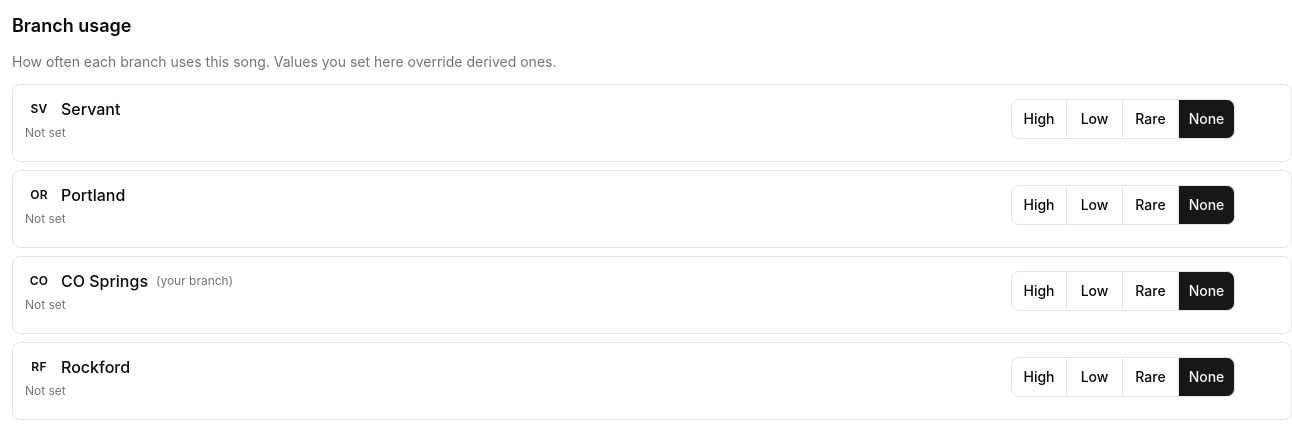
Scenario: UsageSection › sets Rare for a branch
Click the radio button labelled "Rare" in the row of "Portland". click: (1151, 205)
box: [1123,185,1179,225]
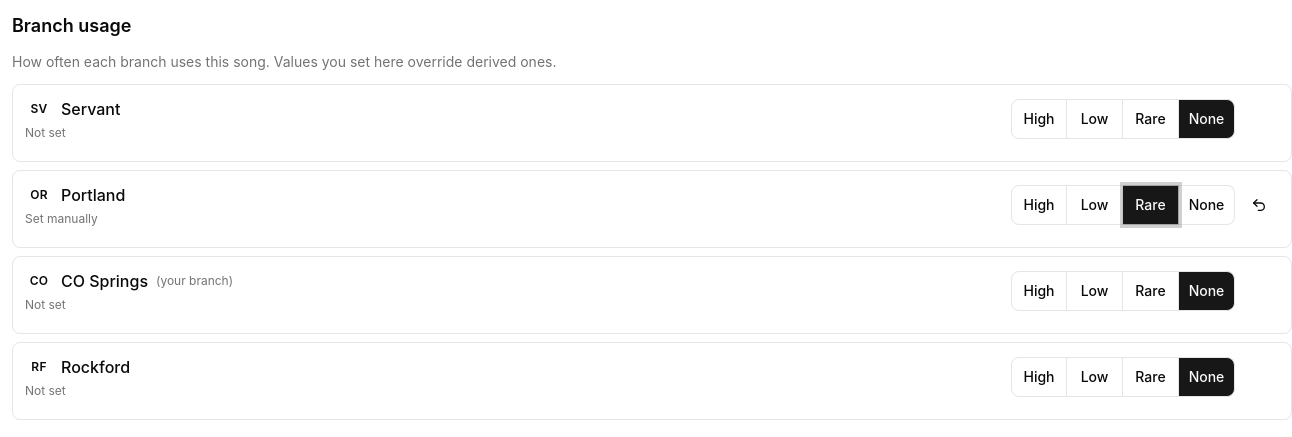
Result: the text "Set manually" is shown at [25,211,98,226]
